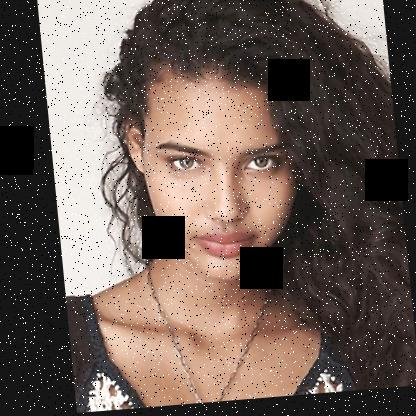Female: (116, 51, 302, 290)
